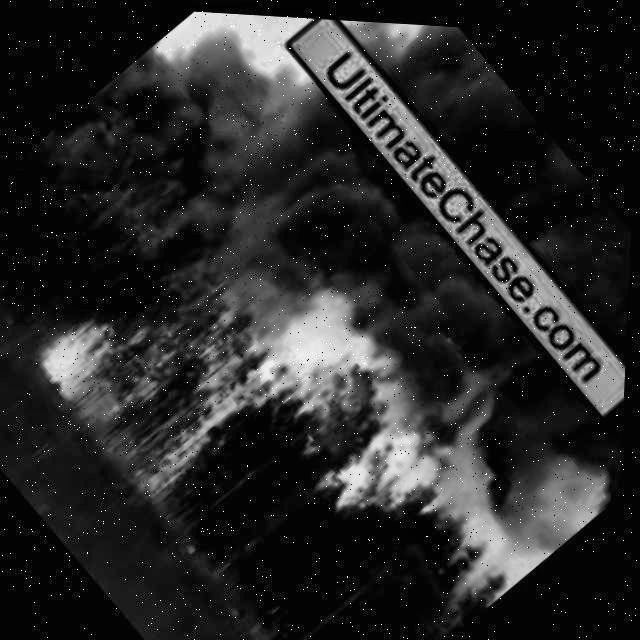Fire: (115, 338, 301, 521), (28, 295, 145, 414), (322, 407, 439, 524)
Smoke: (55, 3, 640, 608), (345, 17, 640, 421)
